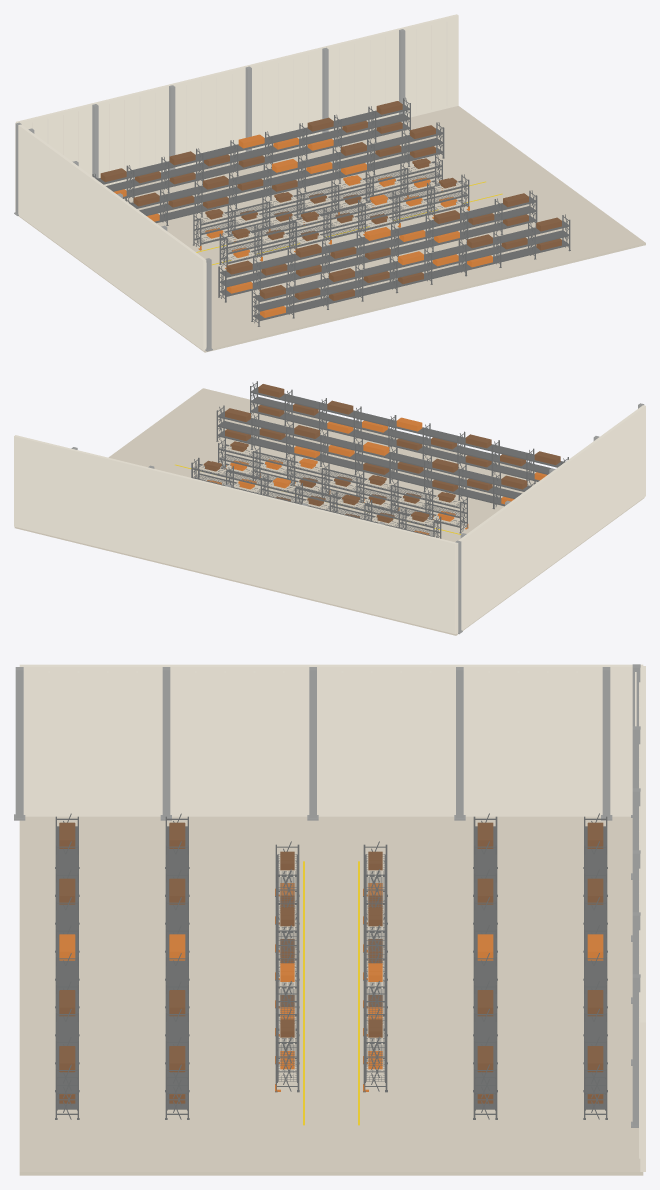
File: warehouse.glb
3 views of the same model, one above another, from view 1: azimuth 30°, elevation 25°; view 2: azimuth 150°, elevation 25°; view 3: azimuth 270°, elevation 25° (orthographic). The views are drawn at different scales.
Visible parts, largest first — view 1: hall_floor, hall_wall_y, hall_wall_x, hall_cols_y, rack_1_0_deck_1, rack_2_0_deck_1, rack_1_1_deck_1, rack_2_1_deck_1, rack_1_0_deck_2, rack_1_0_deck_0, rack_1_1_deck_2, rack_2_0_deck_2 (+16 smaller); view 2: hall_wall_y, hall_wall_x, hall_floor, rack_1_0_deck_1, rack_2_0_deck_1, rack_2_0_deck_2, rack_1_0_deck_2, rack_2_0_deck_0, rack_1_0_deck_0, rack_0_0_deck_1, rack_0_1_deck_1, rack_0_1_deck_2 (+12 smaller); view 3: hall_floor, hall_wall_x, hall_cols_x, rack_2_1_deck_2, rack_1_1_deck_2, rack_1_0_deck_2, rack_2_0_deck_2, hall_cols_y, hall_wall_y, rack_0_0_deck_2, rack_0_1_deck_2, rack_0_1_deck_1 (+1 smaller).
Part boxes in pixels (x1,y1,x2,y2): hall_floor: (18,106,645,352); hall_wall_y: (16,14,458,185); hall_wall_x: (15,122,206,350); hall_cols_y: (14,29,405,215); rack_1_0_deck_1: (219,206,535,286); rack_2_0_deck_1: (252,230,569,310); rack_1_1_deck_1: (139,138,442,215); rack_2_1_deck_1: (106,113,409,191); rack_1_0_deck_2: (219,196,535,276); rack_1_0_deck_0: (219,215,535,295); rack_1_1_deck_2: (129,128,442,208); rack_2_0_deck_2: (253,220,568,301); hall_wall_y: (14,435,456,634); hall_wall_x: (455,405,645,633); hall_floor: (14,388,644,635); rack_1_0_deck_1: (218,421,521,498); rack_2_0_deck_1: (251,396,551,473); rack_2_0_deck_2: (251,387,564,466); rack_1_0_deck_2: (218,411,530,491); rack_2_0_deck_0: (251,406,539,481); rack_1_0_deck_0: (218,430,504,505); rack_0_0_deck_1: (219,454,466,516); rack_0_1_deck_1: (193,473,439,535); rack_0_1_deck_2: (193,463,439,526); hall_floor: (19,816,643,1175); hall_wall_x: (19,664,643,816); hall_cols_x: (14,667,612,820); rack_2_1_deck_2: (584,826,606,1077); rack_1_1_deck_2: (474,826,496,1077); rack_1_0_deck_2: (166,826,188,1077); rack_2_0_deck_2: (56,826,78,1077); hall_cols_y: (631,664,640,1127); hall_wall_y: (639,666,645,1171); rack_0_0_deck_2: (278,854,296,1049); rack_0_1_deck_2: (366,854,384,1049); rack_0_1_deck_1: (366,870,384,1065).
Bounding box in the file's own units: 46.31 × 9.22 × 34.46.
